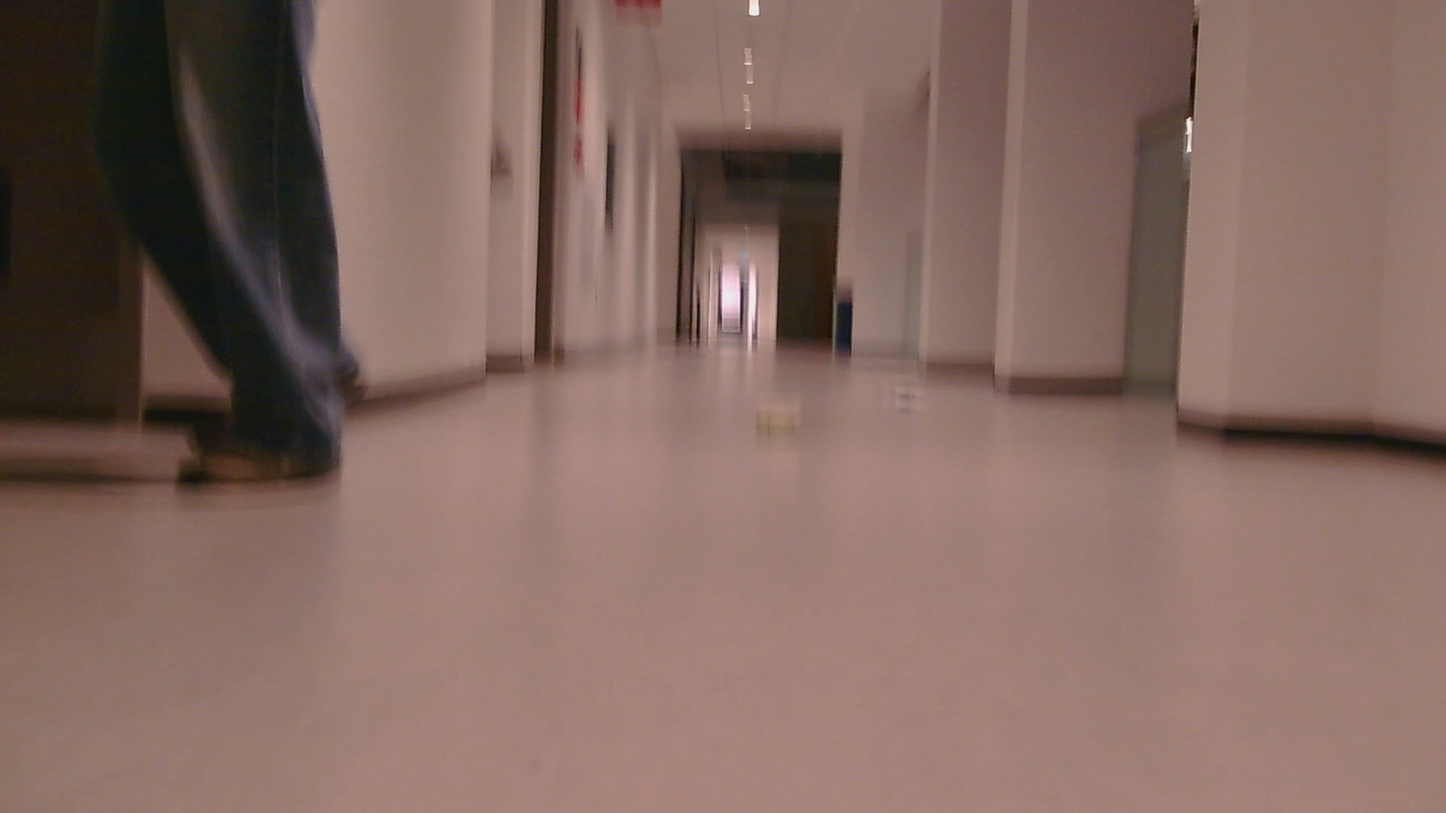carton: (749, 388, 827, 439), (884, 378, 940, 406)
